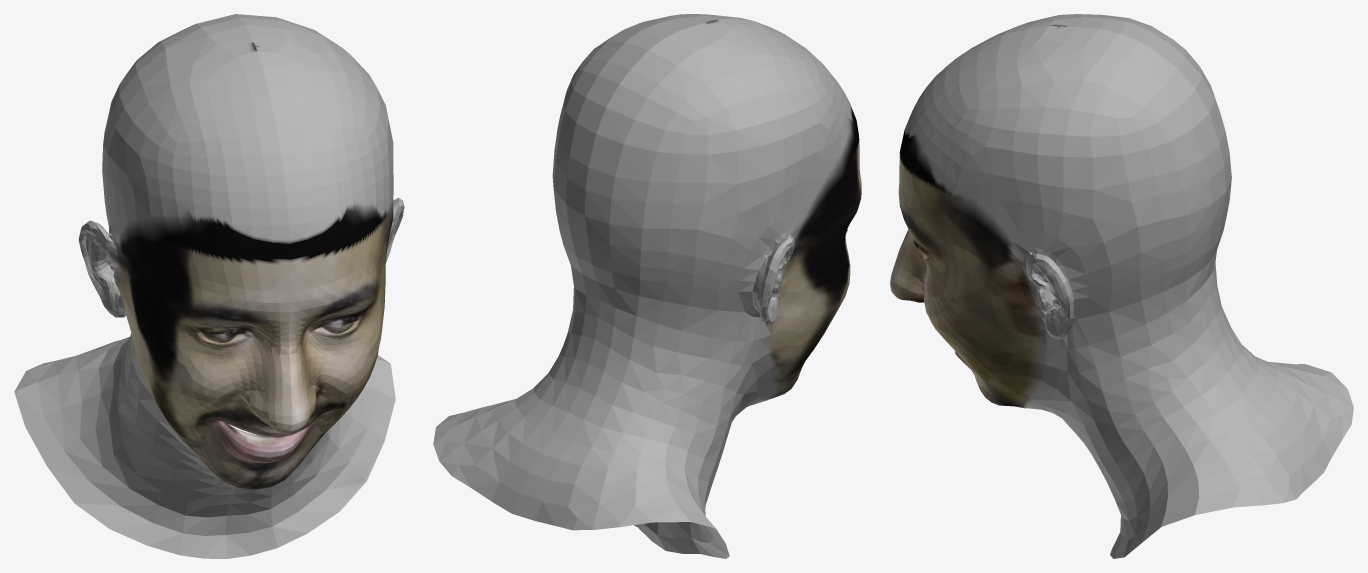
Rendered from ezgif-frame-078.obj.
3 renders of one model, left to right at view 1: azimuth 30°, elevation 25°; view 2: azimuth 150°, elevation 25°; view 3: azimuth 270°, elevation 25°, orthographic. The views are drawn at different scales.
Size of the model in its own units: 0.2099 by 0.3281 by 0.2701.
1 material, 1 textured.
